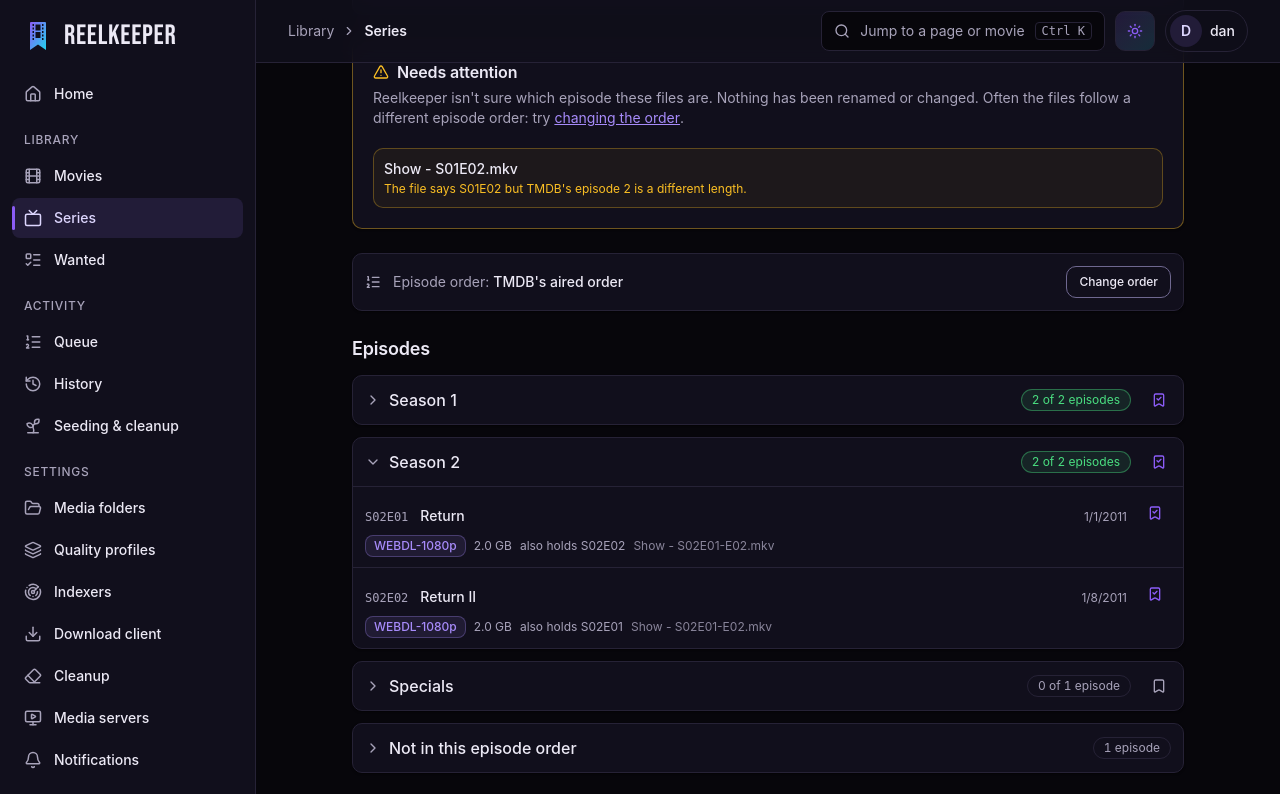
Test case: series page › shows each episode with its code, air date, files and gaps
(page scrolled)
Step 1. Click the button "Season 1 2 of 2 episodes" → (423, 400), box [353,376,1143,424]
(page scrolled)
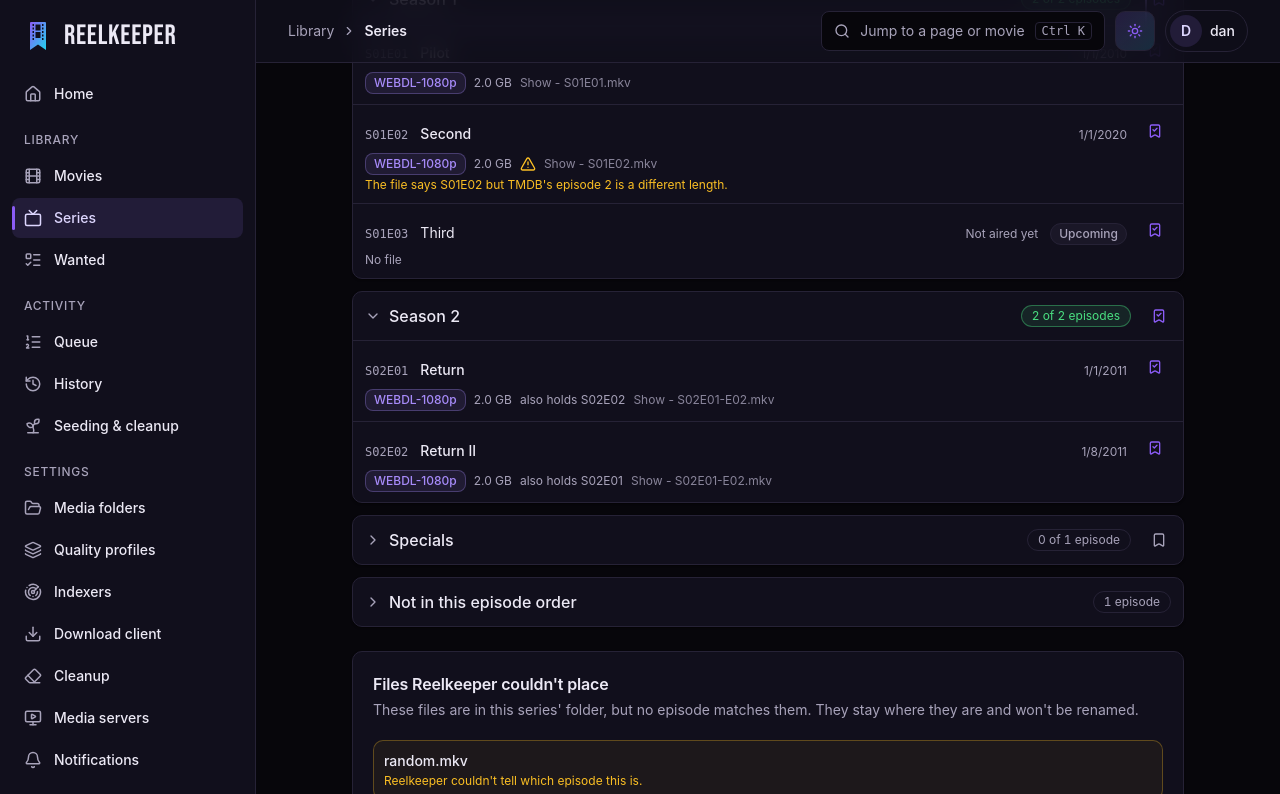
Check: the text "Not aired yet" is shown, box [966,226,1038,242]
Check: the text "No file" is shown, box [365,252,402,267]
Check: the text "WEBDL-1080p" in the row of "Show - S01E01.mkv" is shown, box [374,75,457,90]
